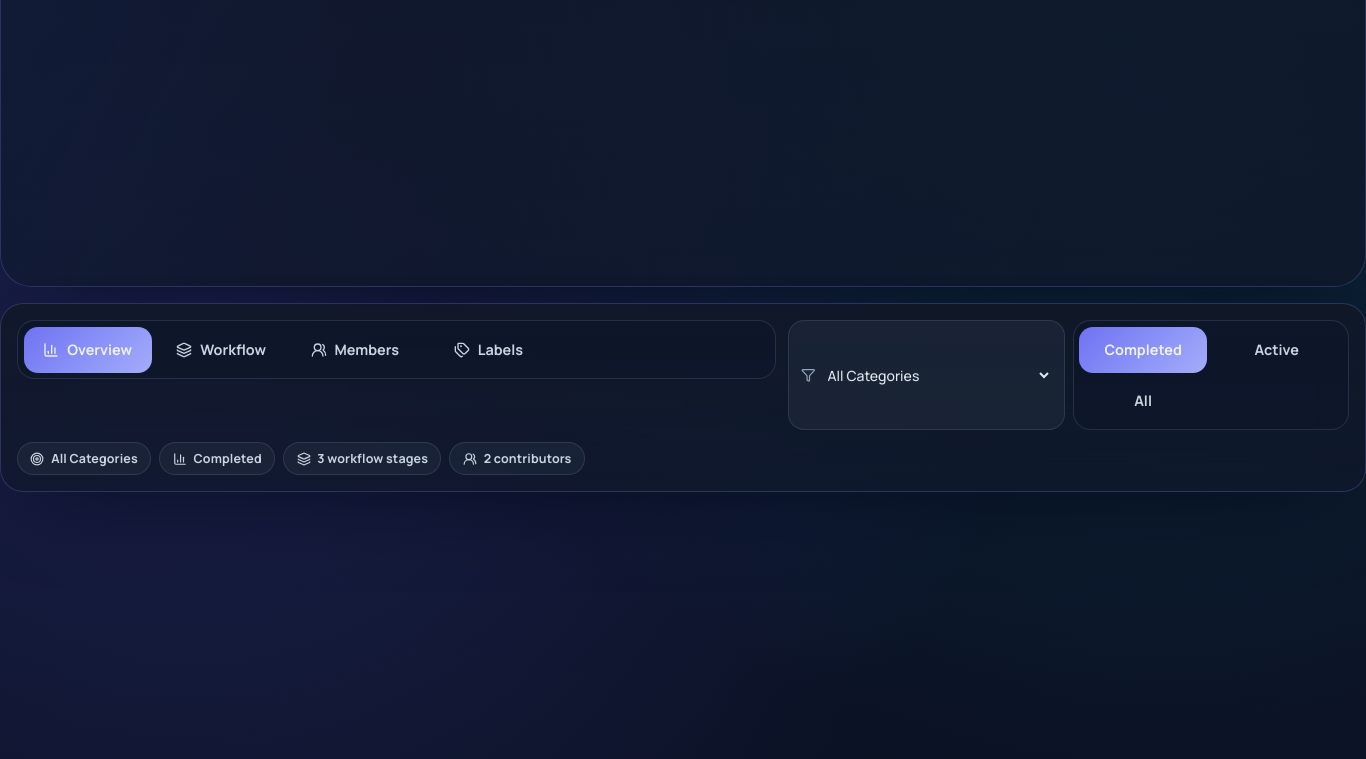
Test: BoardAnalyticsView › updates section content when category and scope filters change
(page scrolled)
Select "Done" in the dropdown named "Filter by category" at (938, 376), box top-left (824, 365), bottom-right (1052, 386)
(page scrolled)
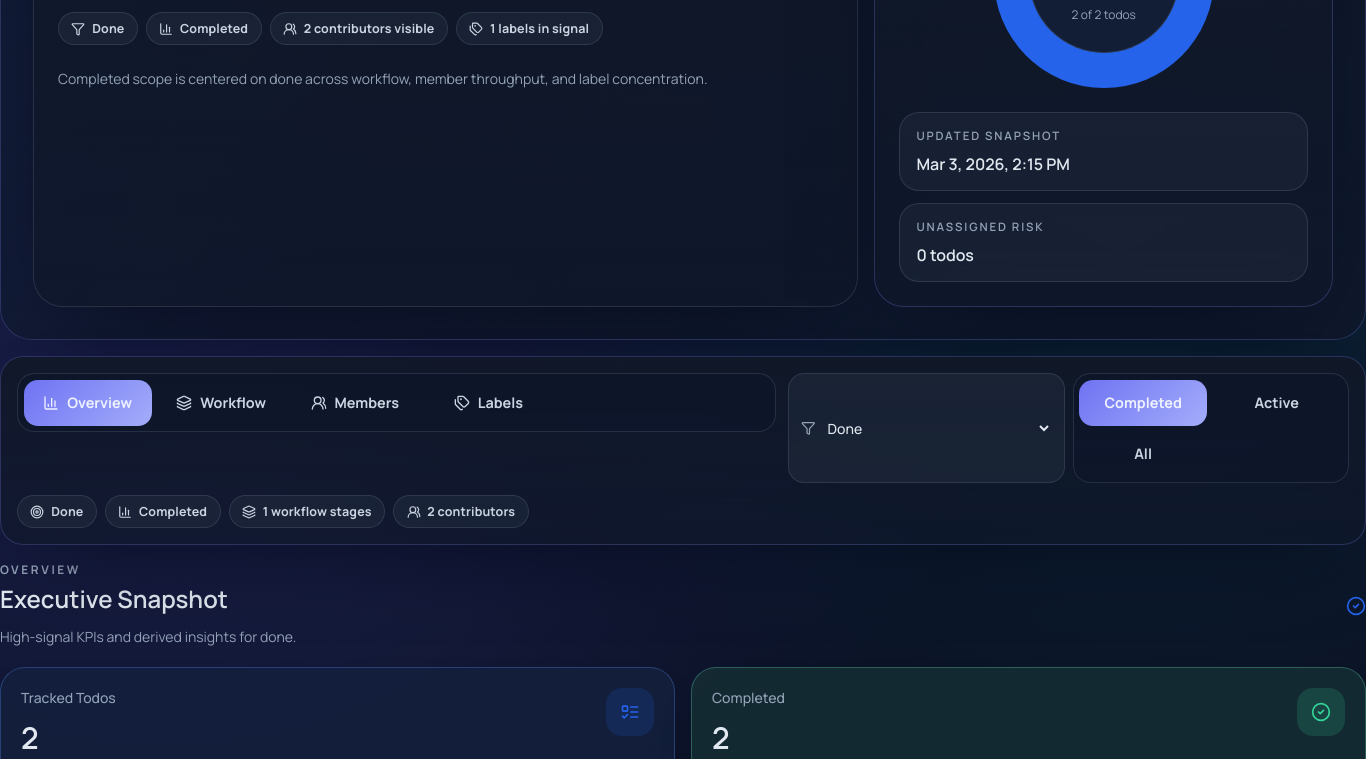
Click the tab "Active" at (1277, 403), box top-left (1213, 380), bottom-right (1341, 426)
(page scrolled)
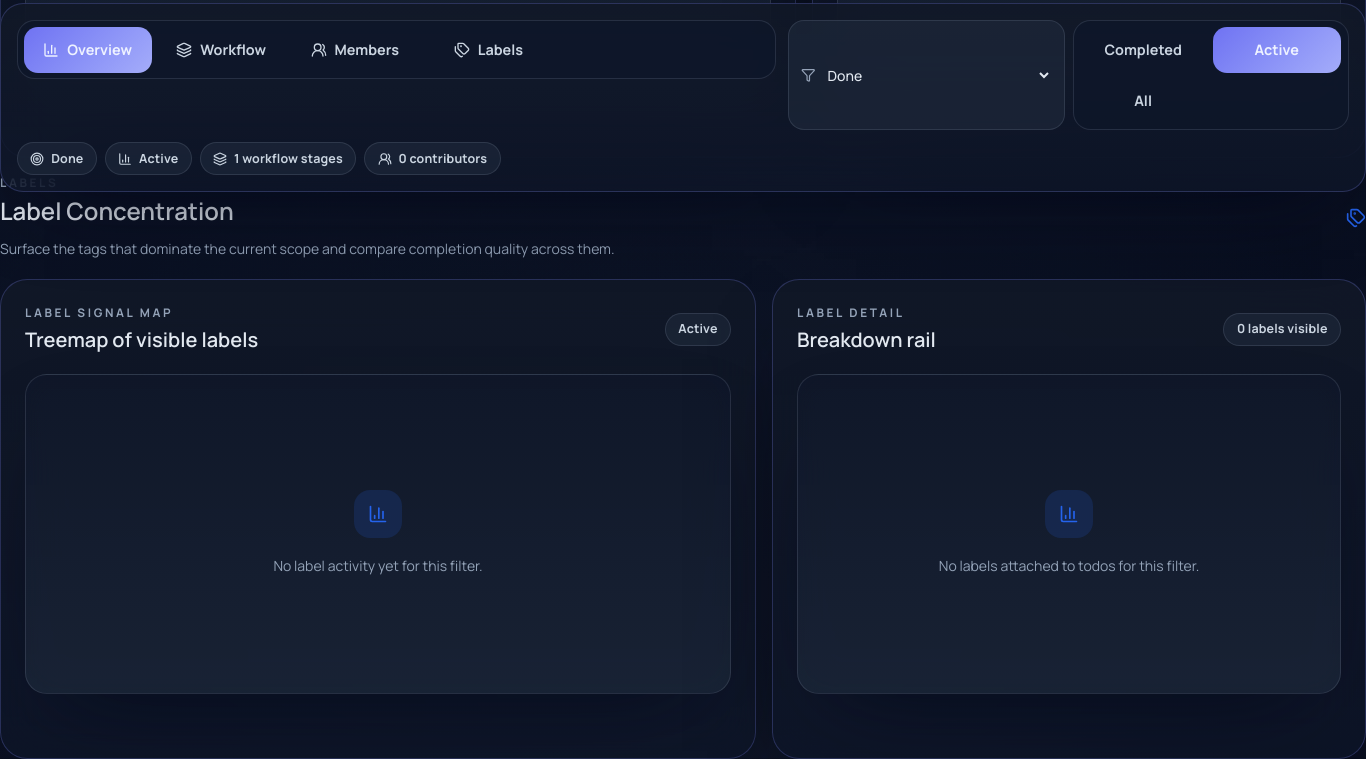
Result: the text "No label activity yet for this filter." is shown at top-left (273, 554), bottom-right (483, 578)
